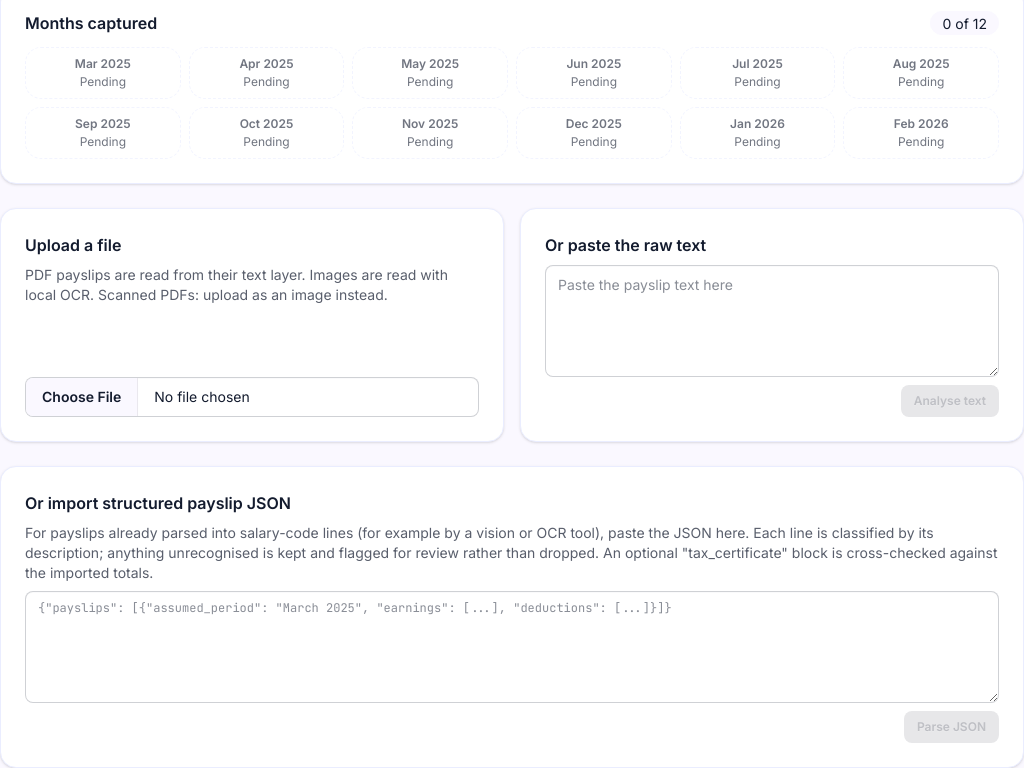
it: UploadPage, JSON import › shows an error for invalid JSON instead of a blank failure
This screenshot has width=1024, height=768.
(page scrolled)
Click the text box named "Pasted payslip JSON" at (512, 647), box [25,591,999,703]
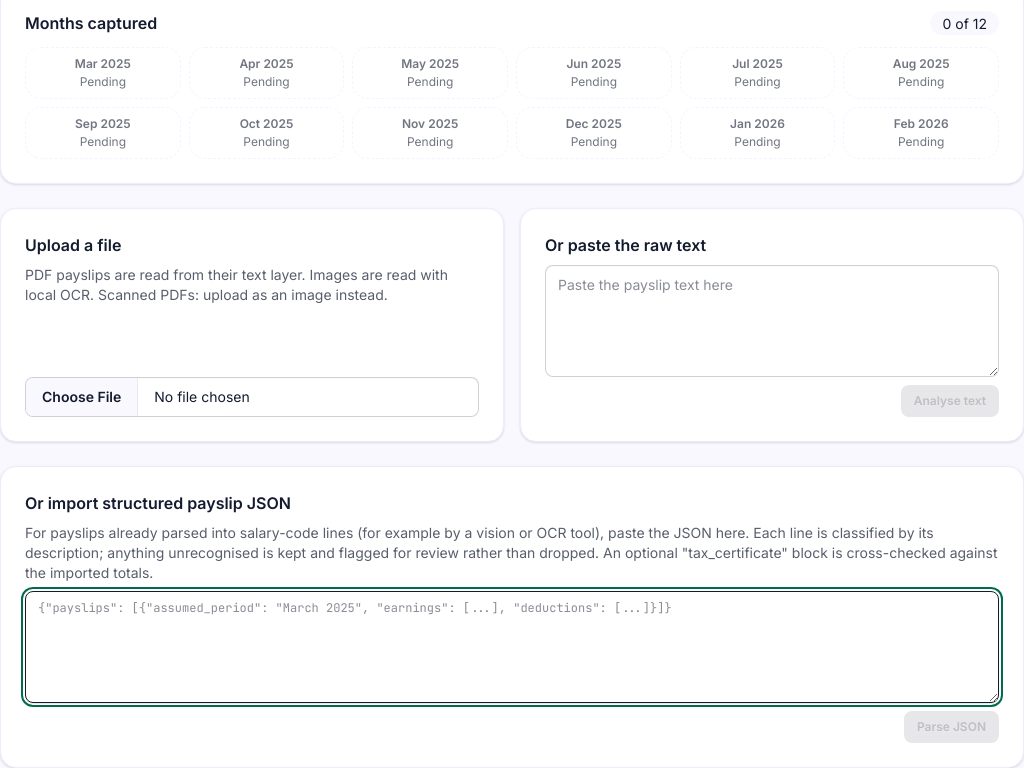
Type keys "{ not valid json"
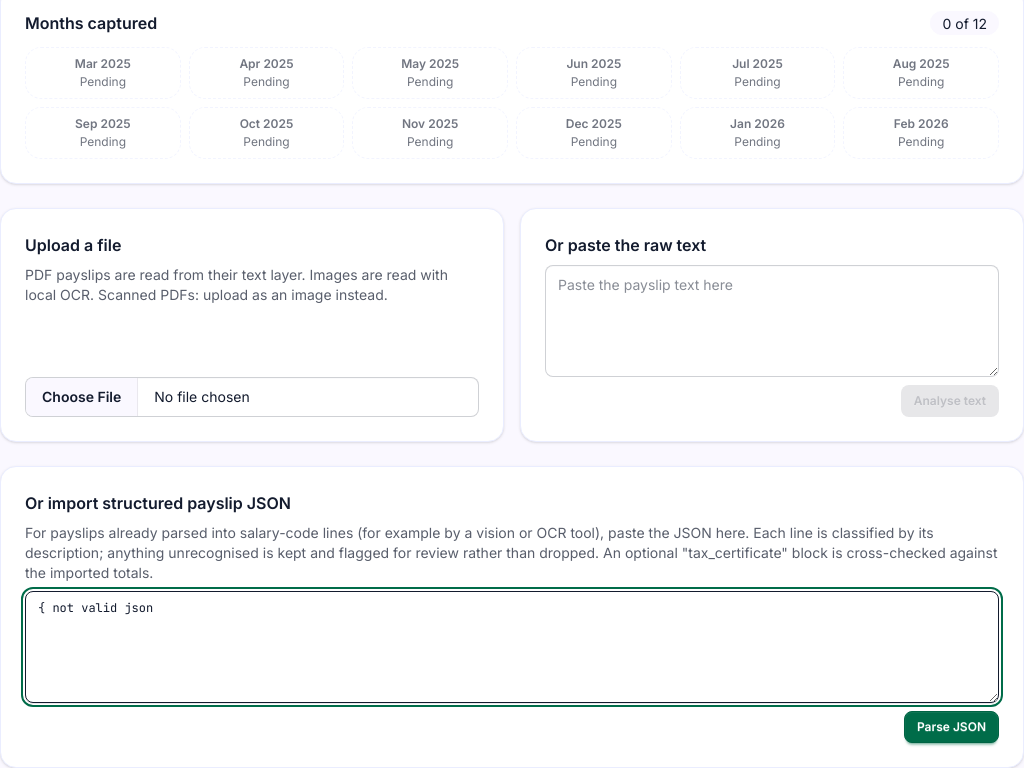
Click the button "Parse JSON" at (951, 727), box [904,711,999,743]
(page scrolled)
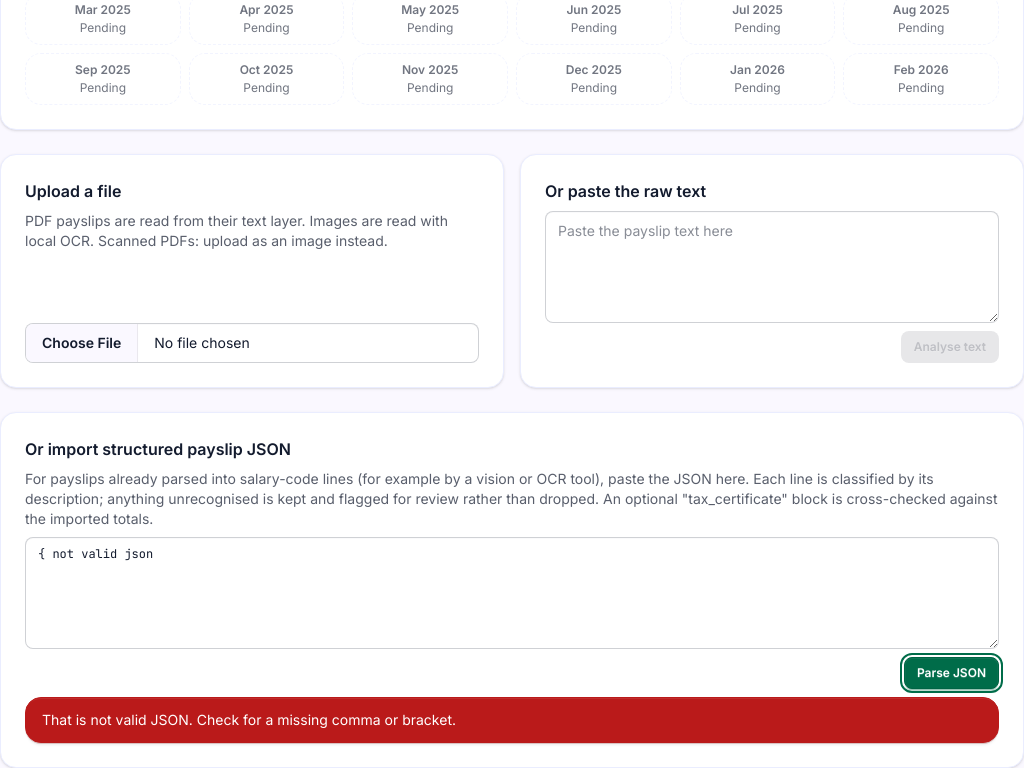
Check: the message shows "not valid JSON", box [42,711,456,728]
